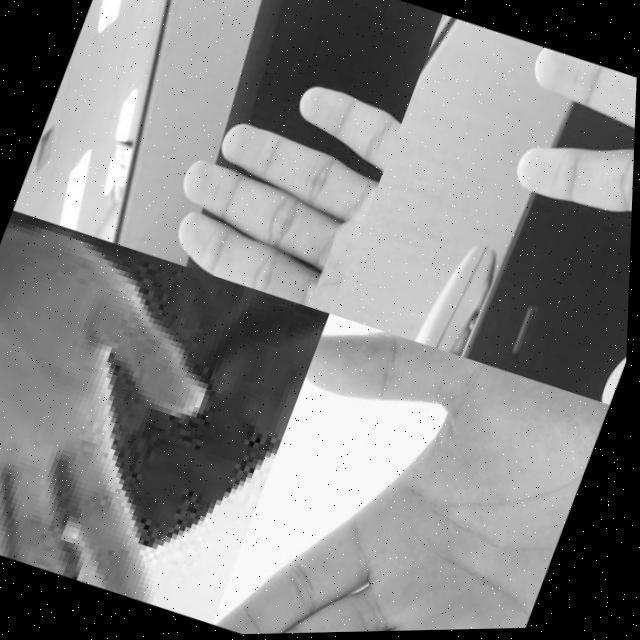no-gloves: (215, 309, 614, 636), (0, 212, 270, 607), (429, 47, 638, 410), (147, 48, 408, 318)
